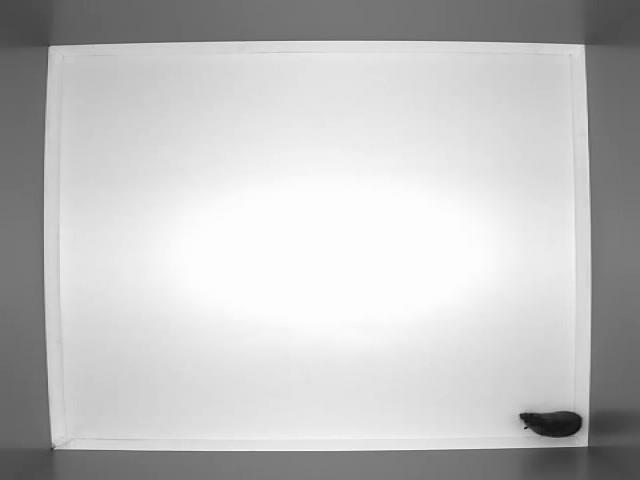Tikus: (520, 412, 582, 438)
